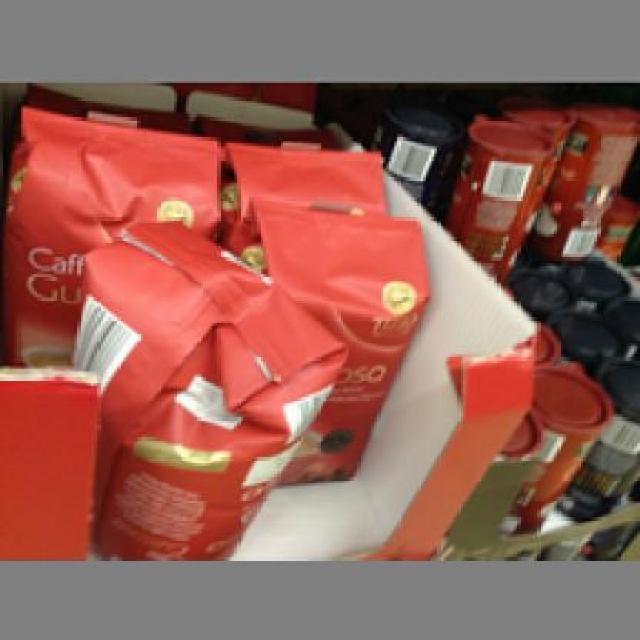Coffee: (71, 214, 338, 557), (3, 103, 223, 366), (233, 194, 430, 477)
